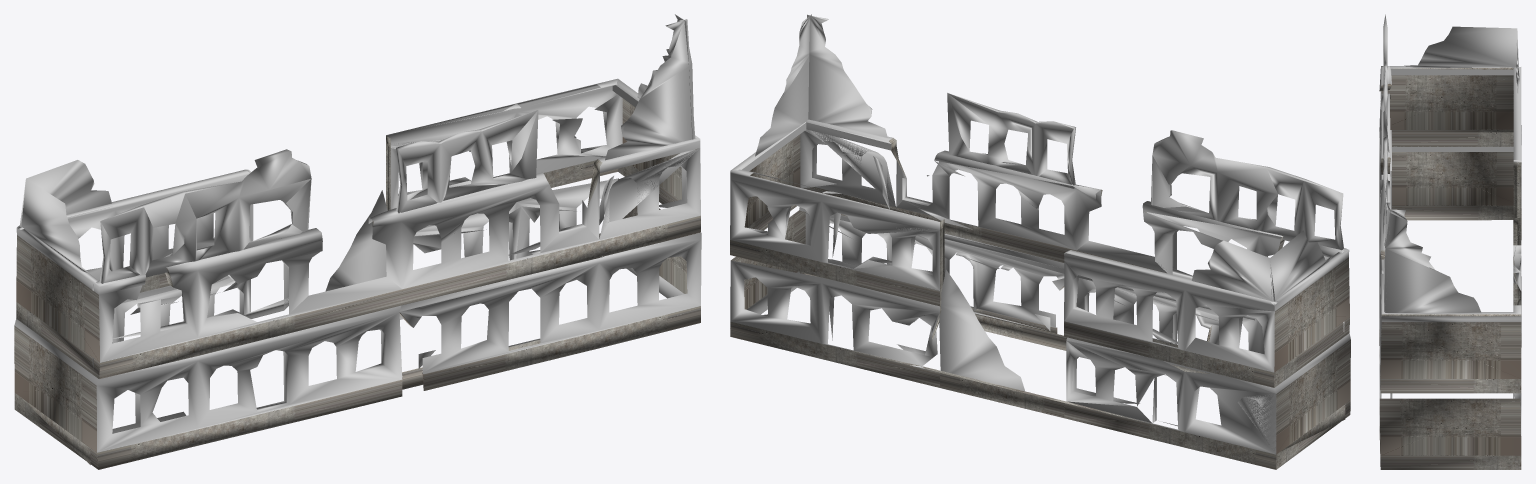
File: long house yellow2 LOD2.fbx
The picture shows the model from 3 angles, left to right: view 1: azimuth 30°, elevation 25°; view 2: azimuth 150°, elevation 25°; view 3: azimuth 270°, elevation 25°; orthographic projection. The views are drawn at different scales.
Visible parts, largest first — view 1: long_house_yellow2_LOD2; view 2: long_house_yellow2_LOD2; view 3: long_house_yellow2_LOD2.
Boxes of the visible parts, x1,y1,x2,y2 form: long_house_yellow2_LOD2: [14, 14, 701, 469]; long_house_yellow2_LOD2: [730, 14, 1350, 469]; long_house_yellow2_LOD2: [1379, 14, 1521, 469].
Bounding box in the file's own units: 25.39 × 12.12 × 6.1.
